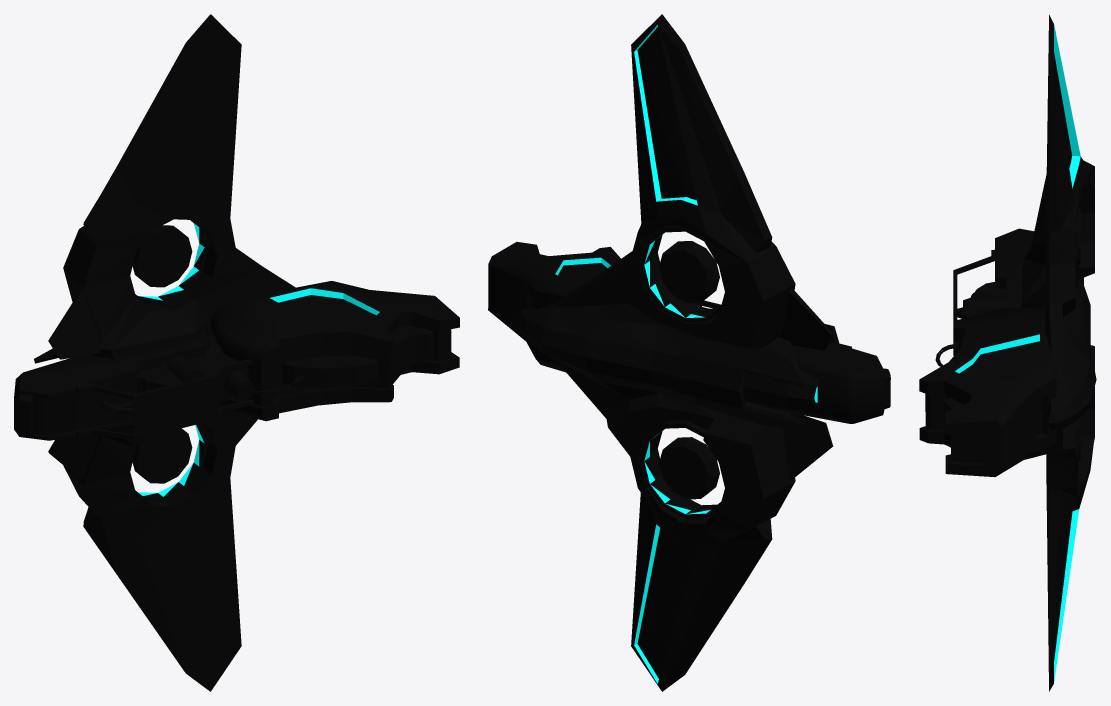
Rendered from AirCraft.FBX.
3 renders of one model, left to right at view 1: azimuth 30°, elevation 25°; view 2: azimuth 150°, elevation 25°; view 3: azimuth 270°, elevation 25°, orthographic.
Visible parts, largest first — view 1: Drone, Mesh_0814.001; view 2: Drone, Mesh_0814.001; view 3: Drone, Mesh_0814.001.
Boxes of the visible parts, x1,y1,x2,y2 form: Drone: (34,14,295,691); Mesh_0814.001: (14,281,459,440); Drone: (513,14,833,691); Mesh_0814.001: (488,242,890,423); Drone: (1022,14,1096,691); Mesh_0814.001: (919,228,1066,477).
Size of the model in its own units: 1004 by 1590 by 377.
